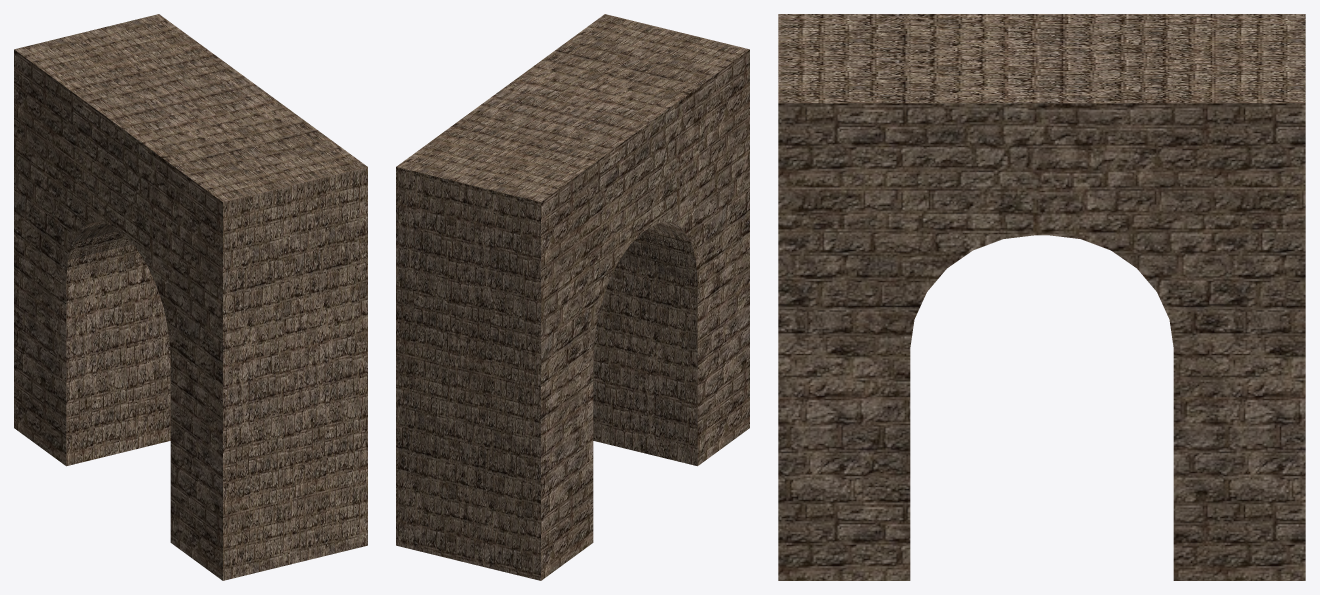
The model's file is ACWALL-Arch.fbx.
The picture shows the model from 3 angles, left to right: view 1: azimuth 30°, elevation 25°; view 2: azimuth 150°, elevation 25°; view 3: azimuth 270°, elevation 25°; orthographic projection. The views are drawn at different scales.
Visible parts, largest first — view 1: Cube.004; view 2: Cube.004; view 3: Cube.004.
Boxes of the visible parts, x1,y1,x2,y2 form: Cube.004: (14,14,367,580); Cube.004: (396,14,749,580); Cube.004: (778,14,1305,580).
Size of the model in its own units: 80.15 by 200 by 200.
